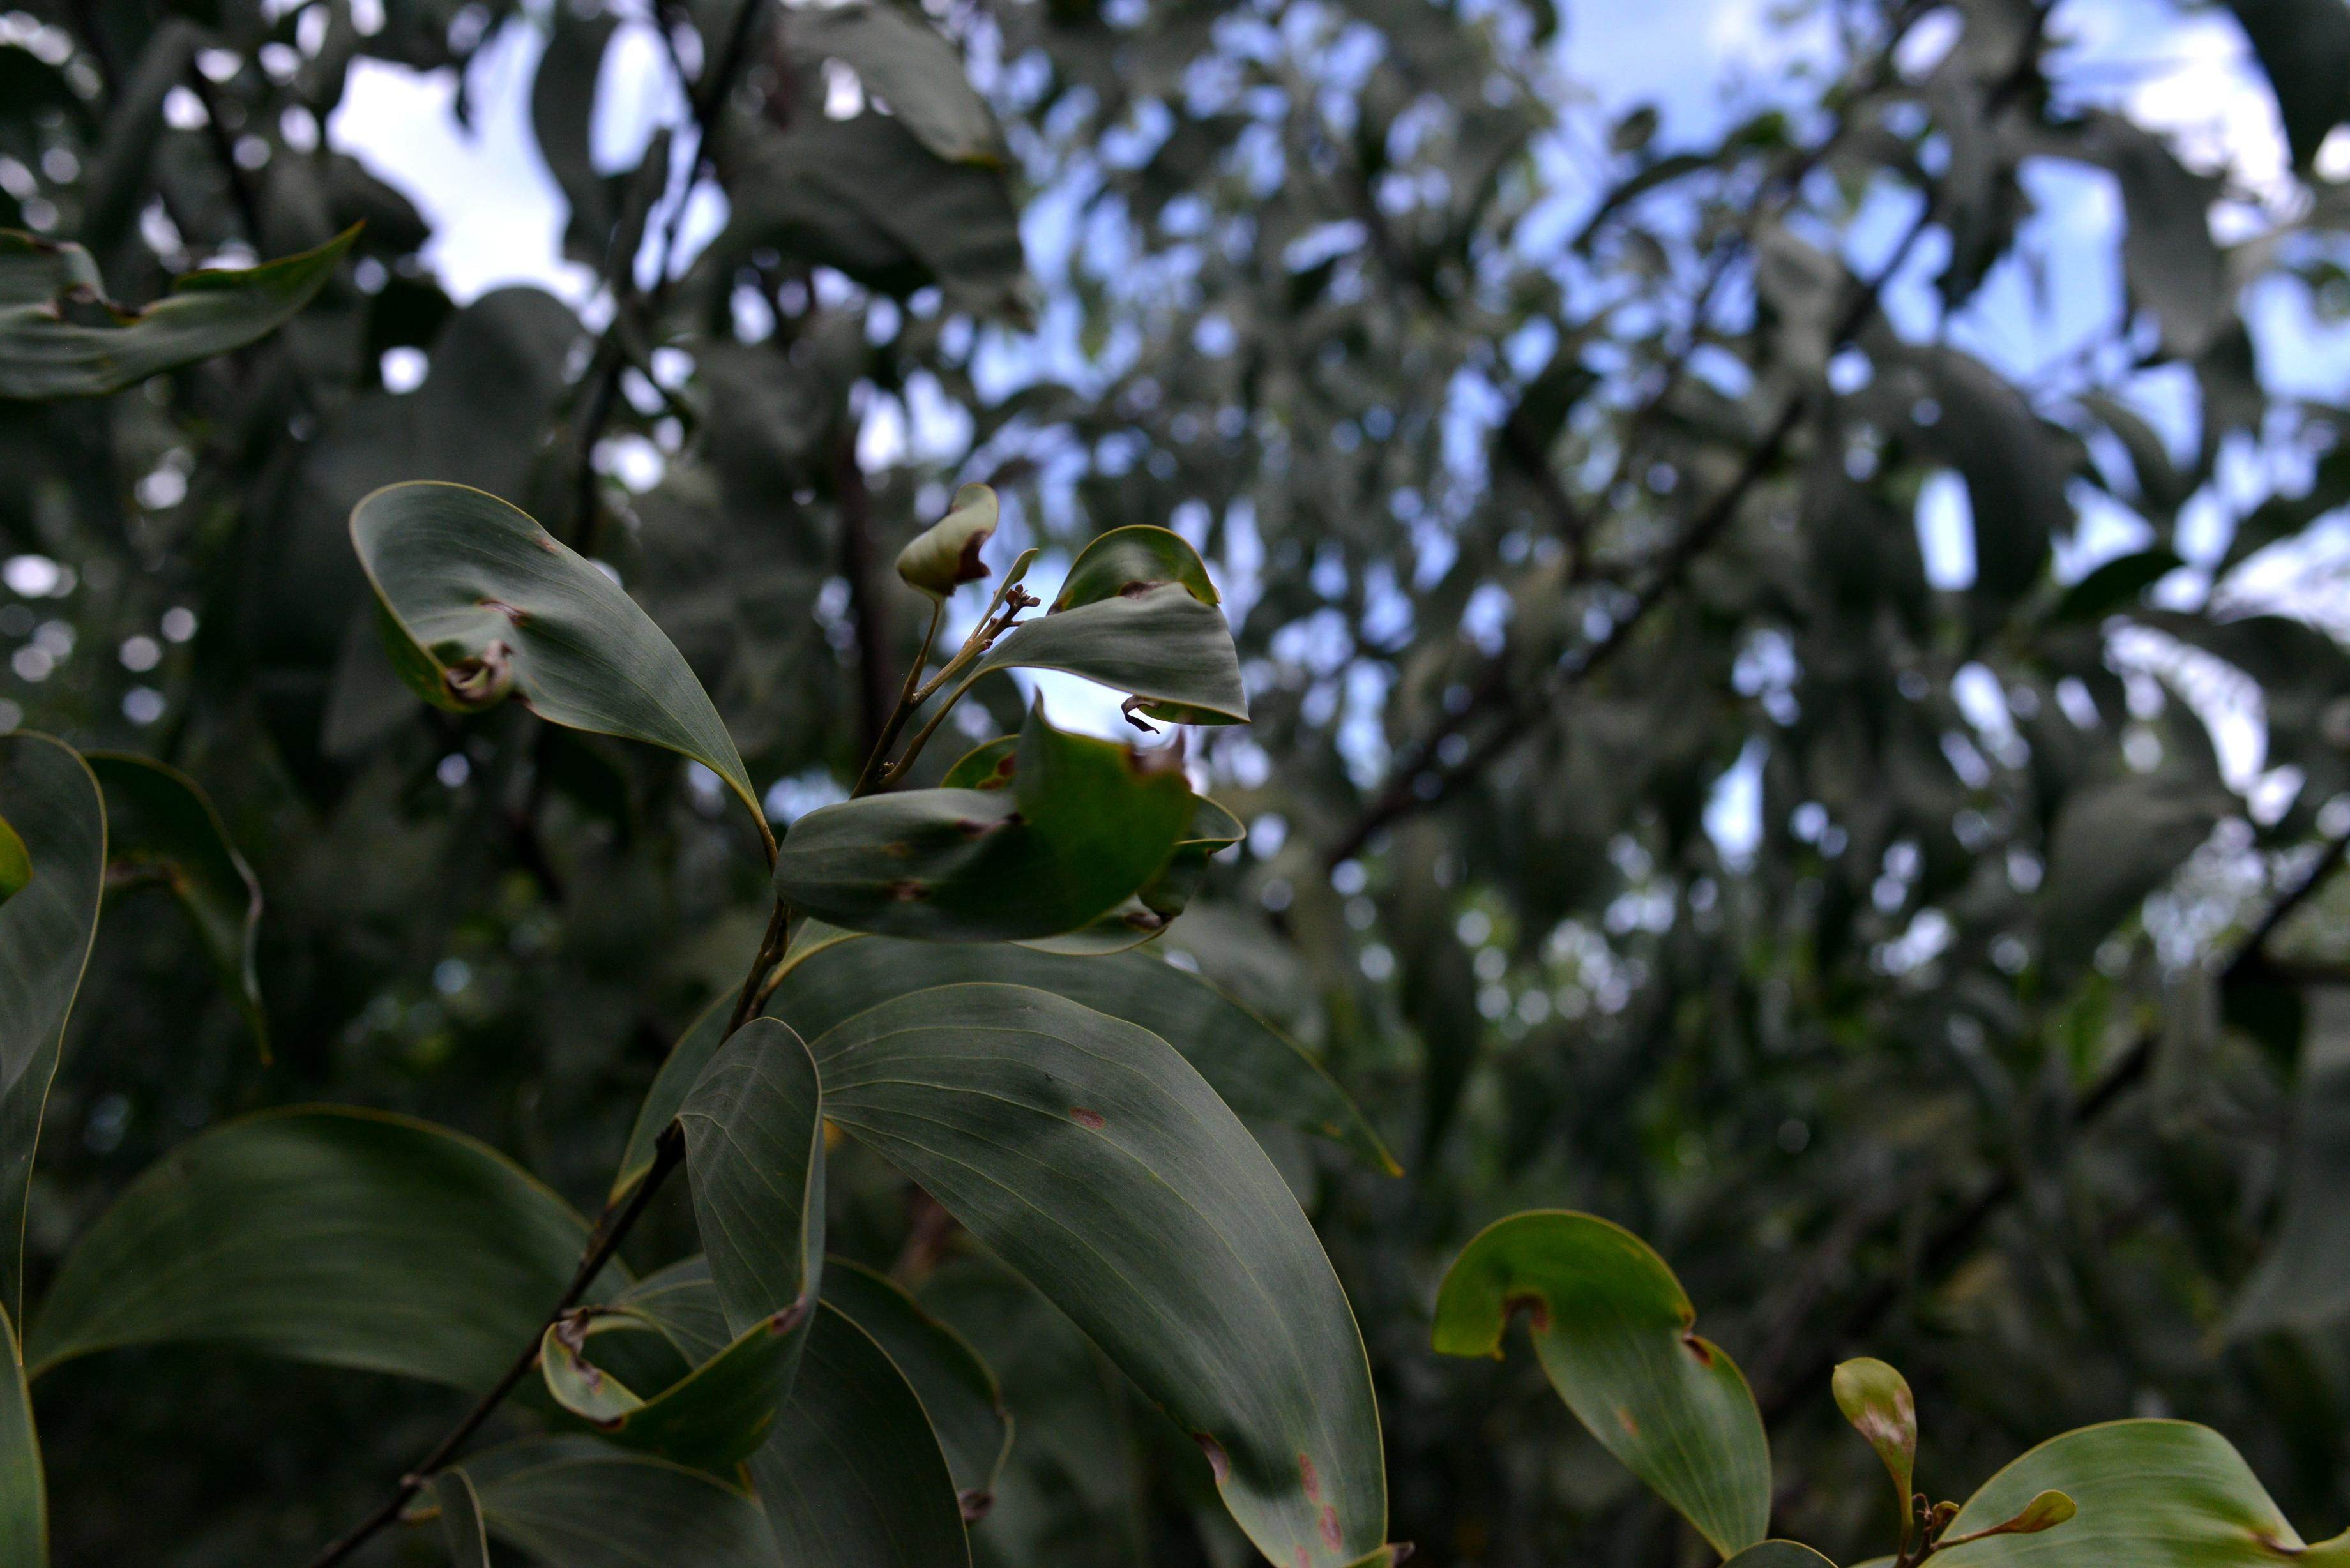Pasalora: (850, 975, 1412, 1568), (345, 460, 770, 863), (534, 1018, 826, 1500), (1823, 1325, 2350, 1568), (1440, 1197, 1780, 1557), (791, 737, 1265, 952), (983, 514, 1269, 735), (901, 471, 992, 591)
